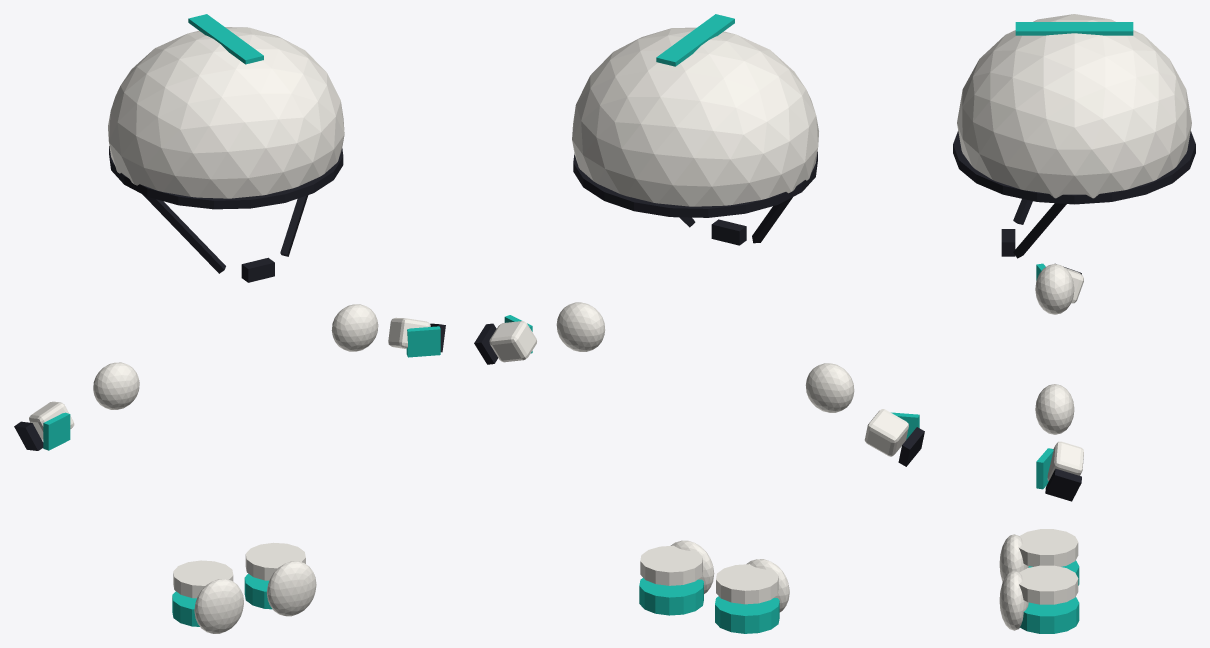
Rendered from Outfit_Longboarding.fbx.
3 renders of one model, left to right at view 1: azimuth 30°, elevation 25°; view 2: azimuth 150°, elevation 25°; view 3: azimuth 270°, elevation 25°, orthographic. The views are drawn at different scales.
Parts seen in each view (by area): view 1: Helmet__Head.003, KneePadL__shin.L.003, KneePadR__shin.R.003, WristGuardR__hand.R, WristGuardL__hand.L, ElbowR__forearm.R, ElbowL__forearm.L; view 2: Helmet__Head.003, KneePadL__shin.L.003, KneePadR__shin.R.003, WristGuardR__hand.R, WristGuardL__hand.L, ElbowL__forearm.L, ElbowR__forearm.R; view 3: Helmet__Head.003, KneePadL__shin.L.003, KneePadR__shin.R.003, WristGuardL__hand.L, ElbowR__forearm.R, ElbowL__forearm.L, WristGuardR__hand.R.
Part boxes in pixels (x1=…): Helmet__Head.003: x1=108, y1=14, x2=344, y2=282; KneePadL__shin.L.003: x1=244, y1=542, x2=316, y2=616; KneePadR__shin.R.003: x1=172, y1=560, x2=243, y2=633; WristGuardR__hand.R: x1=14, y1=401, x2=74, y2=450; WristGuardL__hand.L: x1=388, y1=317, x2=445, y2=357; ElbowR__forearm.R: x1=93, y1=362, x2=139, y2=409; ElbowL__forearm.L: x1=331, y1=304, x2=378, y2=351; Helmet__Head.003: x1=572, y1=14, x2=818, y2=245; KneePadL__shin.L.003: x1=639, y1=540, x2=714, y2=615; KneePadR__shin.R.003: x1=715, y1=559, x2=789, y2=633; WristGuardR__hand.R: x1=864, y1=409, x2=924, y2=466; WristGuardL__hand.L: x1=474, y1=315, x2=536, y2=364; ElbowL__forearm.L: x1=556, y1=302, x2=605, y2=351; ElbowR__forearm.R: x1=805, y1=363, x2=854, y2=412; Helmet__Head.003: x1=953, y1=14, x2=1195, y2=258; KneePadL__shin.L.003: x1=999, y1=565, x2=1079, y2=633; KneePadR__shin.R.003: x1=999, y1=529, x2=1079, y2=585; WristGuardL__hand.L: x1=1036, y1=441, x2=1083, y2=501; ElbowR__forearm.R: x1=1035, y1=264, x2=1074, y2=314; ElbowL__forearm.L: x1=1035, y1=384, x2=1074, y2=434; WristGuardR__hand.R: x1=1036, y1=263, x2=1083, y2=303.
Size of the model in its own units: 1.02 by 1.31 by 0.496.
